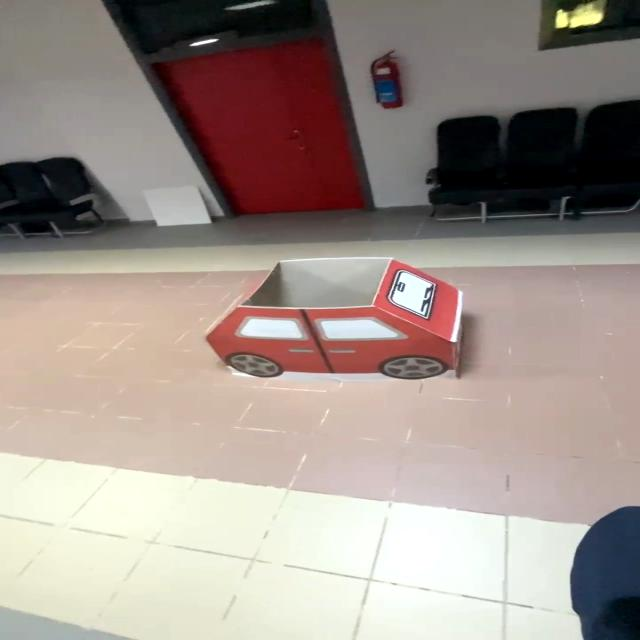red_car: (183, 248, 496, 415)
